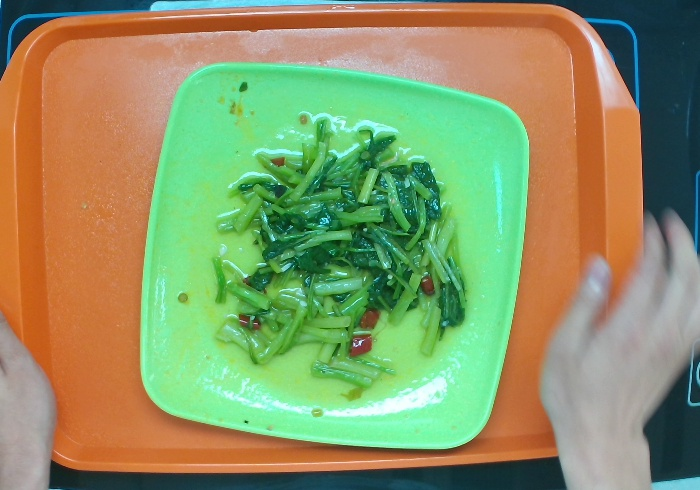ZNLD-Lv_Fang_Pan: (137, 59, 530, 451)
